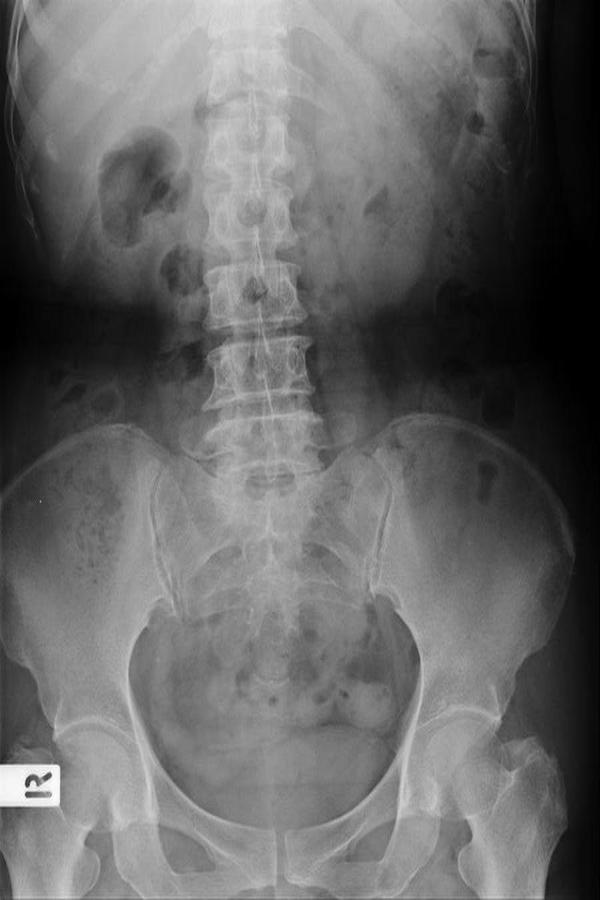lumbar scoliosis: (198, 6, 327, 534)
